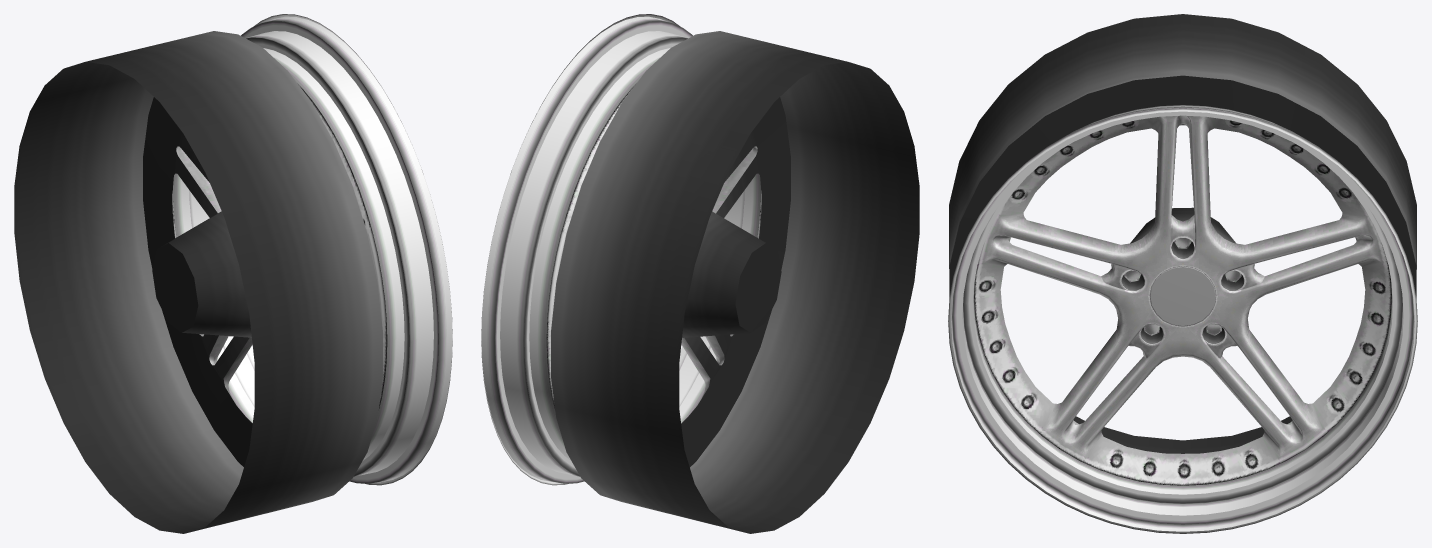
File: wheel65.fbx
3 views of the same model, side by side, from view 1: azimuth 30°, elevation 25°; view 2: azimuth 150°, elevation 25°; view 3: azimuth 270°, elevation 25° (orthographic). The views are drawn at different scales.
Parts seen in each view (by area): view 1: rac_rs2_wheel_wheel_inner_rim_, wheel_rim, rac_rs2_wheel_wheel_rim_; view 2: rac_rs2_wheel_wheel_inner_rim_, wheel_rim, rac_rs2_wheel_wheel_rim_; view 3: rac_rs2_wheel_wheel_rim_, wheel_rim, rac_rs2_wheel_wheel_inner_rim_.
Part boxes in pixels (x1,y1,x2,y2): rac_rs2_wheel_wheel_inner_rim_: (14, 31, 382, 533); wheel_rim: (172, 14, 452, 483); rac_rs2_wheel_wheel_rim_: (173, 14, 452, 485); rac_rs2_wheel_wheel_inner_rim_: (551, 31, 919, 533); wheel_rim: (481, 14, 761, 483); rac_rs2_wheel_wheel_rim_: (481, 14, 757, 485); rac_rs2_wheel_wheel_rim_: (974, 115, 1392, 485); wheel_rim: (948, 105, 1417, 533); rac_rs2_wheel_wheel_inner_rim_: (949, 14, 1416, 453).
Bounding box in the file's own units: 0.217 × 0.4565 × 0.4557.
1 material, 1 textured.
